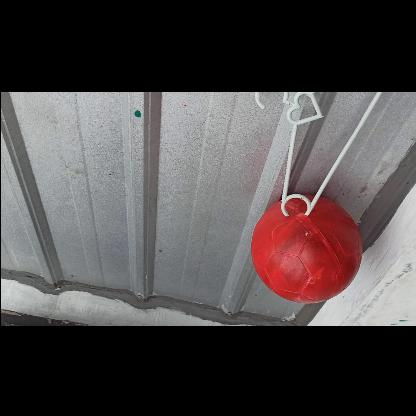red_ball: (249, 194, 359, 304)
